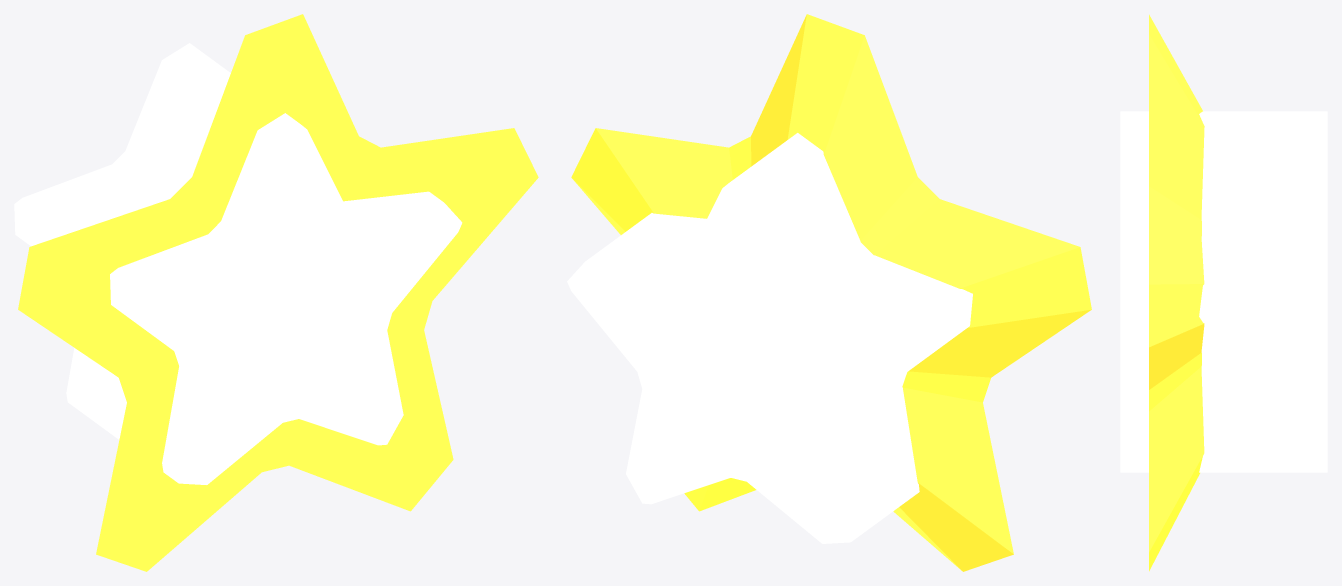
File: star.glb
The picture shows the model from 3 angles, left to right: view 1: azimuth 30°, elevation 25°; view 2: azimuth 150°, elevation 25°; view 3: azimuth 270°, elevation 25°; orthographic projection. The views are drawn at different scales.
Visible parts, largest first — view 1: Core_FFFFFF, Body_FFD447; view 2: Core_FFFFFF, Body_FFD447; view 3: Core_FFFFFF, Body_FFD447.
Part boxes in pixels (x1,y1,x2,y2): Core_FFFFFF: (14, 43, 462, 484); Body_FFD447: (18, 14, 538, 571); Core_FFFFFF: (567, 133, 972, 543); Body_FFD447: (571, 14, 1091, 571); Core_FFFFFF: (1120, 111, 1327, 472); Body_FFD447: (1149, 14, 1204, 571).
Bounding box in the file's own units: 5.61 × 5.39 × 2.07.
